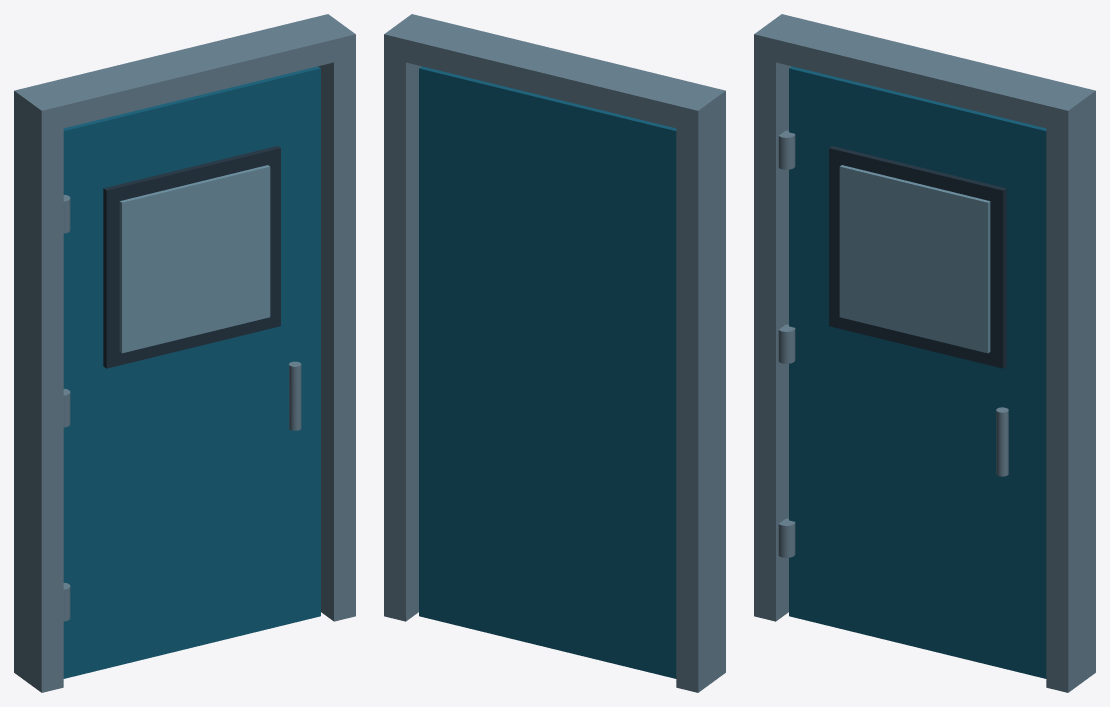
The model's file is door.78d5af33489e.glb.
3 views of the same model, side by side, from view 1: azimuth 30°, elevation 25°; view 2: azimuth 150°, elevation 25°; view 3: azimuth 330°, elevation 25° (orthographic).
Visible parts, largest first — view 1: door_leaf_0004, jamb_0001, window_0006, jamb_0002, lintel_0003, window_frame_0005, handle_0007; view 2: door_leaf_0004, jamb_0001, jamb_0002, lintel_0003; view 3: door_leaf_0004, jamb_0002, window_0006, jamb_0001, lintel_0003, window_frame_0005, handle_0007, hinge_0008, hinge_0009, hinge_0010.
Part boxes in pixels (x1,y1,x2,y2): door_leaf_0004: [63, 66, 320, 678]; jamb_0001: [14, 102, 63, 692]; window_0006: [119, 165, 270, 353]; jamb_0002: [318, 46, 355, 621]; lintel_0003: [14, 14, 355, 133]; window_frame_0005: [103, 146, 280, 368]; handle_0007: [289, 361, 301, 430]; door_leaf_0004: [419, 66, 676, 678]; jamb_0001: [676, 102, 725, 692]; jamb_0002: [384, 45, 421, 621]; lintel_0003: [384, 14, 725, 133]; door_leaf_0004: [789, 66, 1046, 678]; jamb_0002: [1046, 102, 1095, 692]; window_0006: [839, 165, 990, 353]; jamb_0001: [754, 45, 791, 621]; lintel_0003: [754, 14, 1095, 133]; window_frame_0005: [829, 146, 1006, 368]; handle_0007: [996, 407, 1008, 476]; hinge_0008: [778, 518, 795, 557]; hinge_0009: [778, 324, 795, 363]; hinge_0010: [778, 130, 795, 169].
Size of the model in its own units: 1.44 by 2.55 by 0.265.
